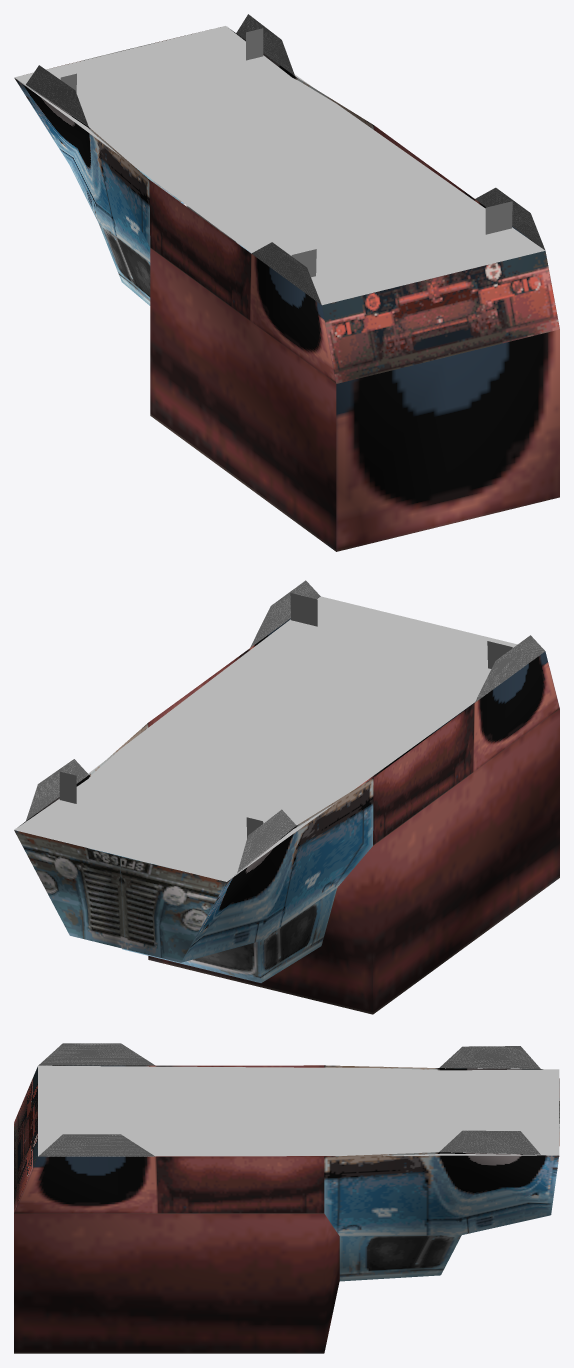
File: HAVANA_model9_low.obj
The picture shows the model from 3 angles, top to bottom: view 1: azimuth 30°, elevation 25°; view 2: azimuth 150°, elevation 25°; view 3: azimuth 270°, elevation 25°; orthographic projection. The views are drawn at different scales.
Visible parts, largest first — view 1: HAVANA_model9_low; view 2: HAVANA_model9_low; view 3: HAVANA_model9_low.
Boxes of the visible parts, left/top/right/bottom form: HAVANA_model9_low: left=14, top=14, right=559, bottom=551; HAVANA_model9_low: left=14, top=580, right=559, bottom=1014; HAVANA_model9_low: left=14, top=1043, right=559, bottom=1353.
Size of the model in its own units: 341 by 382 by 862.
